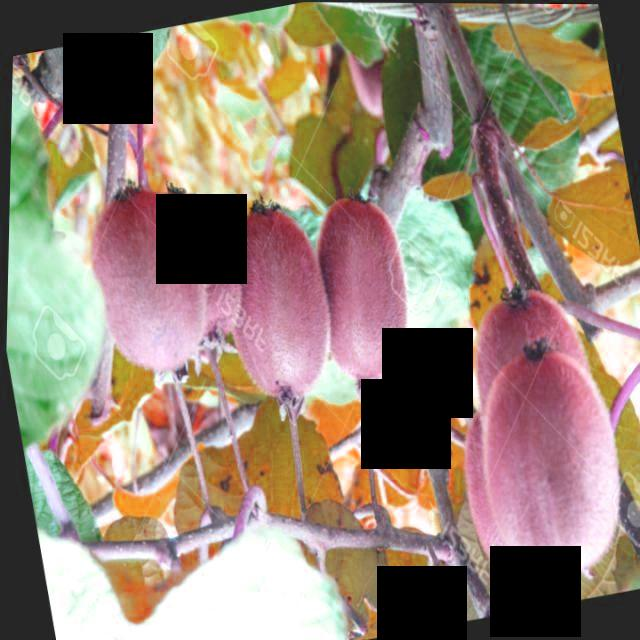kiwi: (460, 336, 640, 599), (202, 189, 348, 413), (70, 171, 216, 389), (295, 184, 428, 403)
